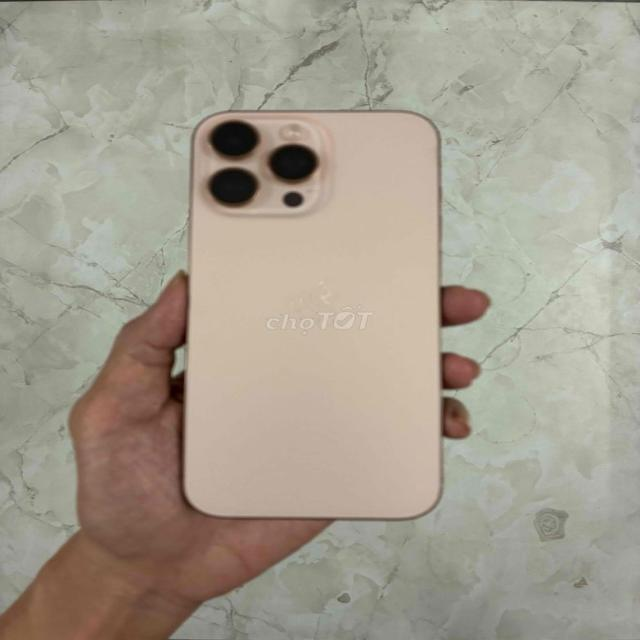gen_16: (183, 110, 442, 519)
